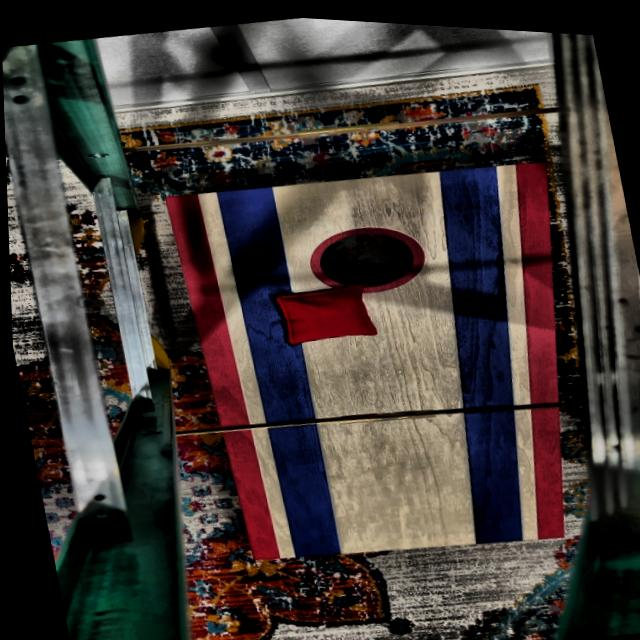board: (180, 146, 559, 572)
hole: (302, 211, 431, 300)
red-bean-bag: (273, 275, 373, 345)
